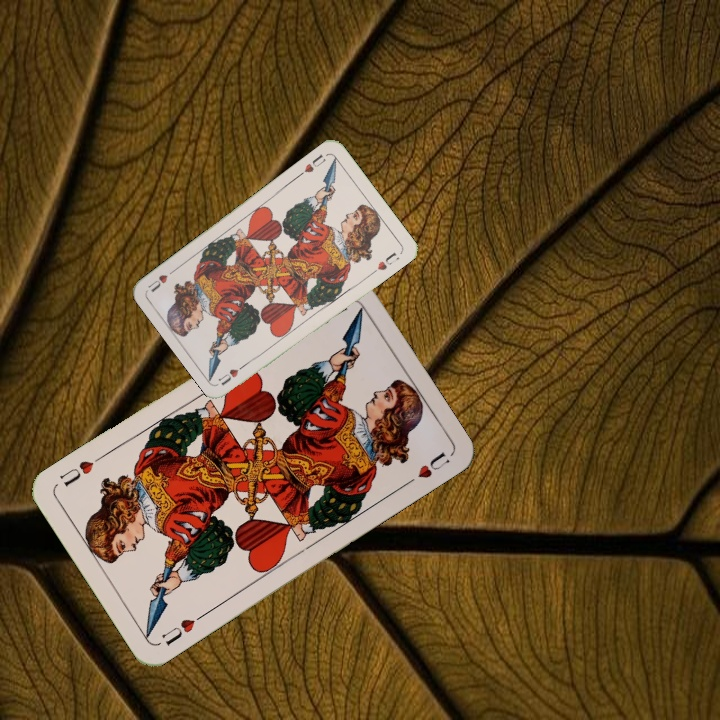HU: (157, 609, 208, 649), (214, 358, 251, 388), (295, 150, 328, 179)
